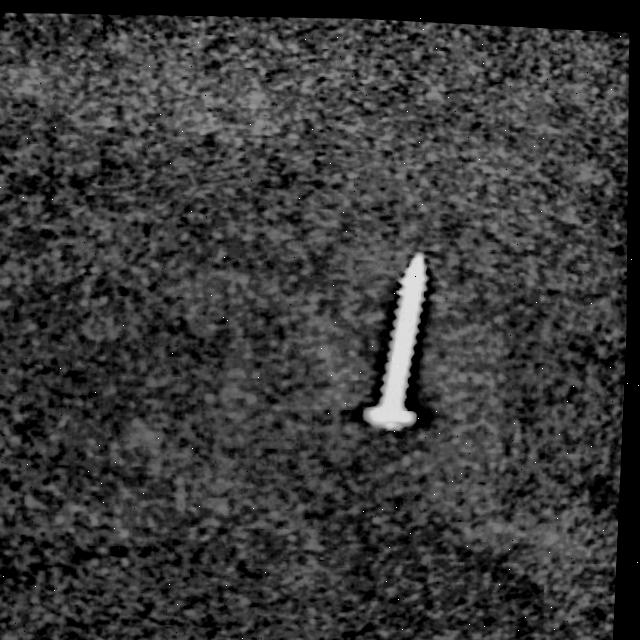Sheet metal screw: (362, 242, 440, 427)
